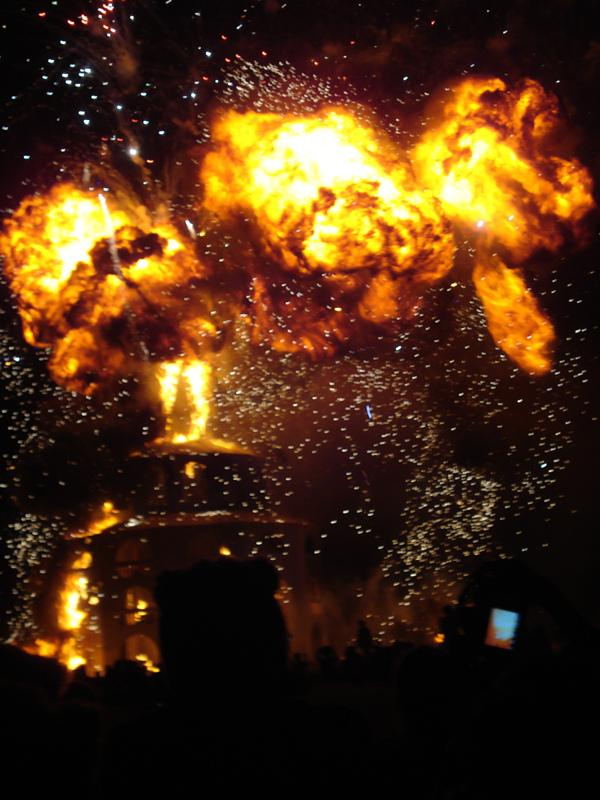fire: (264, 130, 394, 258), (20, 206, 138, 308), (432, 124, 522, 236), (146, 362, 212, 438), (486, 278, 538, 356)
